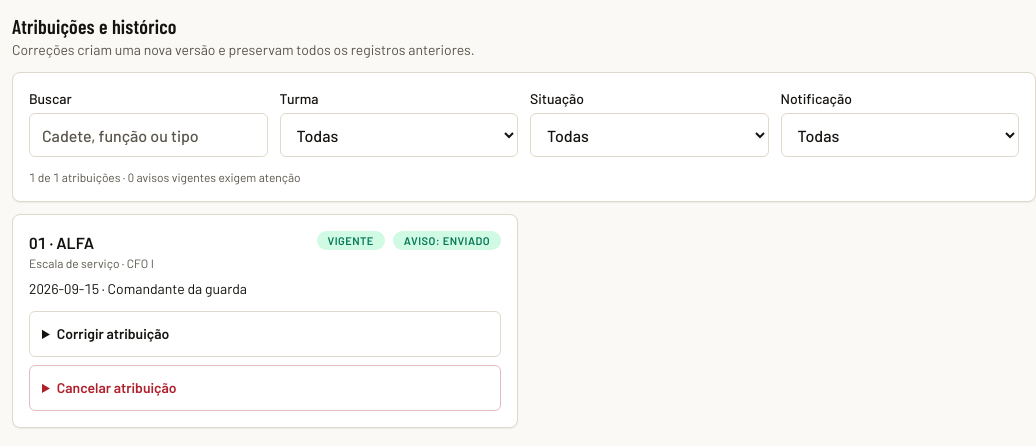
Test case: Gestão de atribuições de escala › informa quando nenhum item corresponde aos filtros
Type "inexistente" into the search field labelled "Buscar". click: (148, 135)
box: x1=29 y1=113 x2=268 y2=157
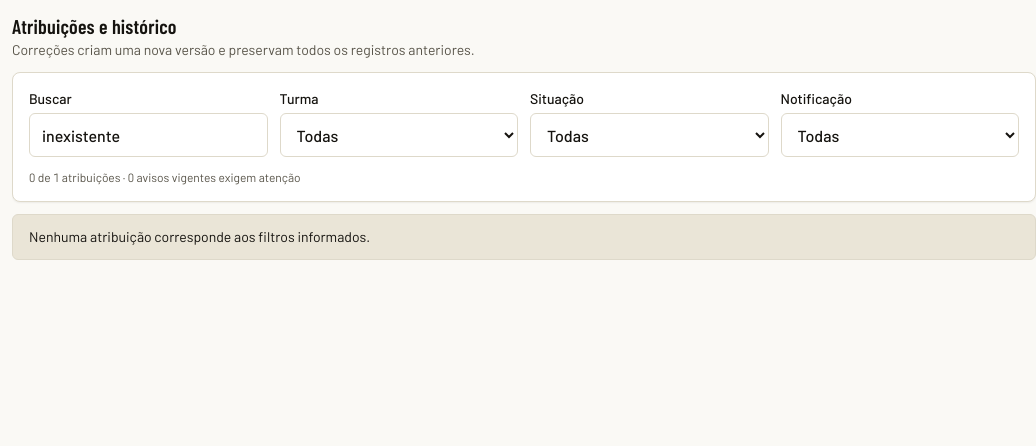
Expected: the text "Nenhuma atribuição corresponde aos filtros informados." is shown, x1=12 y1=214 x2=1035 y2=260
